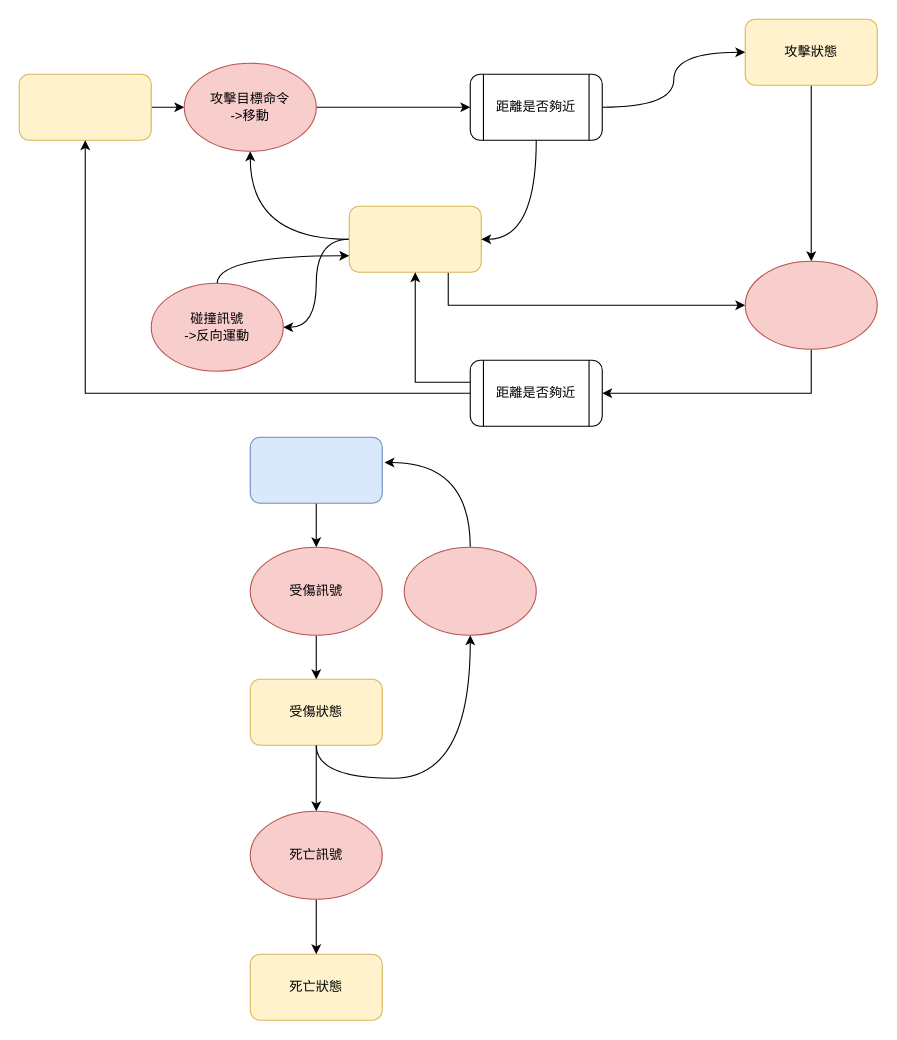
This 897x1040 diagram has some shape labels left out. The centre of each missing label's shape, as x and y in pixels:
任何狀態: point (315, 469)
待命狀態: point (84, 106)
移動狀態: point (414, 238)
計時訊號: point (469, 590)
返回目的地命令 ->移動: point (810, 304)
